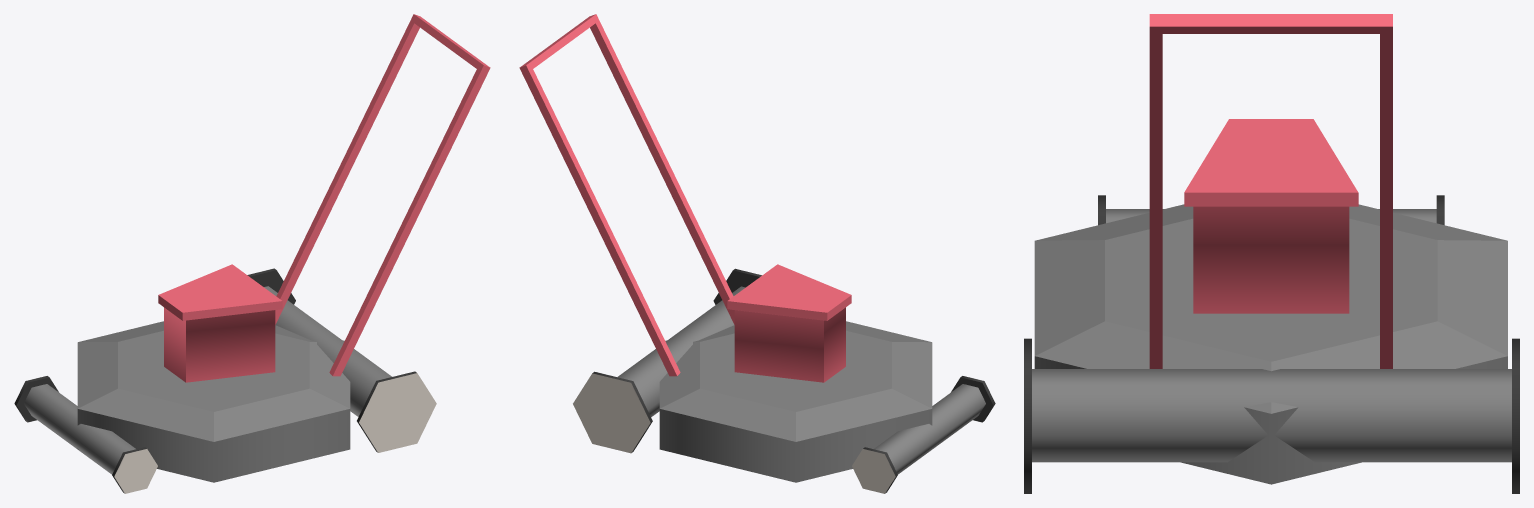
File: mode_lawnmower.FBX
3 views of the same model, side by side, from view 1: azimuth 30°, elevation 25°; view 2: azimuth 150°, elevation 25°; view 3: azimuth 270°, elevation 25° (orthographic). The views are drawn at different scales.
Visible parts, largest first — view 1: Cylinder001; view 2: Cylinder001; view 3: Cylinder001.
Boxes of the visible parts, x1,y1,x2,y2 form: Cylinder001: (14, 14, 490, 493); Cylinder001: (519, 14, 995, 493); Cylinder001: (1024, 14, 1519, 493).
Bounding box in the file's own units: 100 × 80.16 × 63.54.
Materials: 1 (1 with a texture image).
